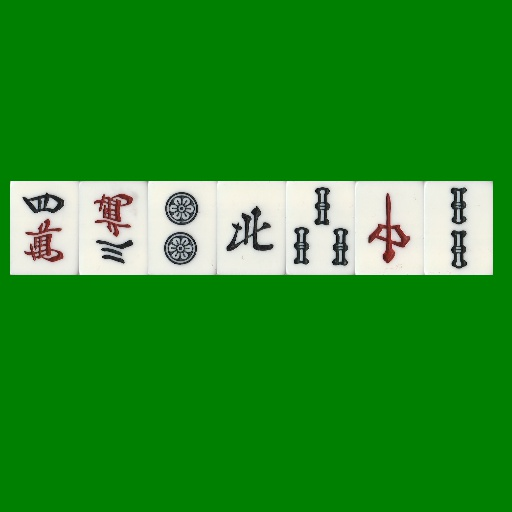2p: (148, 181, 217, 275)
2s: (424, 181, 493, 275)
3m: (79, 181, 148, 275)
3s: (286, 181, 355, 275)
4m: (10, 181, 79, 275)
north: (217, 181, 286, 275)
tyun: (355, 181, 424, 275)
